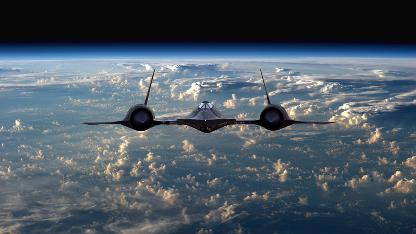Rafale: (78, 69, 336, 133)
